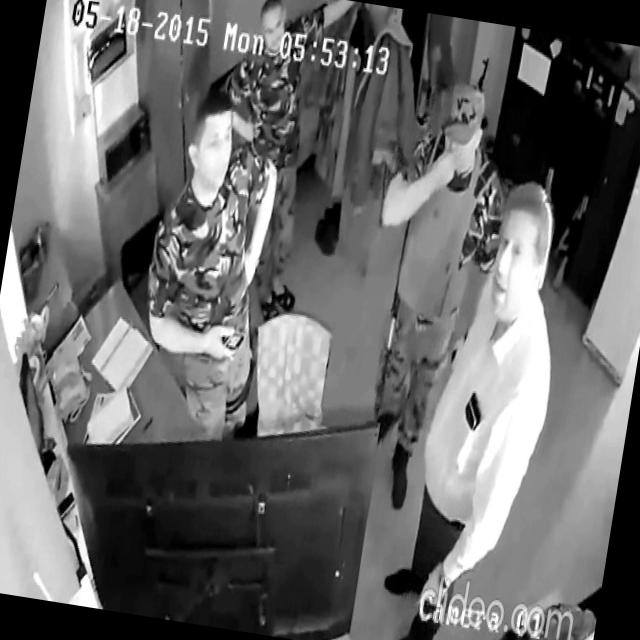gun: (544, 146, 604, 298), (372, 286, 403, 419), (470, 53, 500, 134)
person: (372, 166, 584, 640), (124, 80, 298, 447), (187, 0, 357, 325)
person with a gun: (336, 67, 527, 523)
